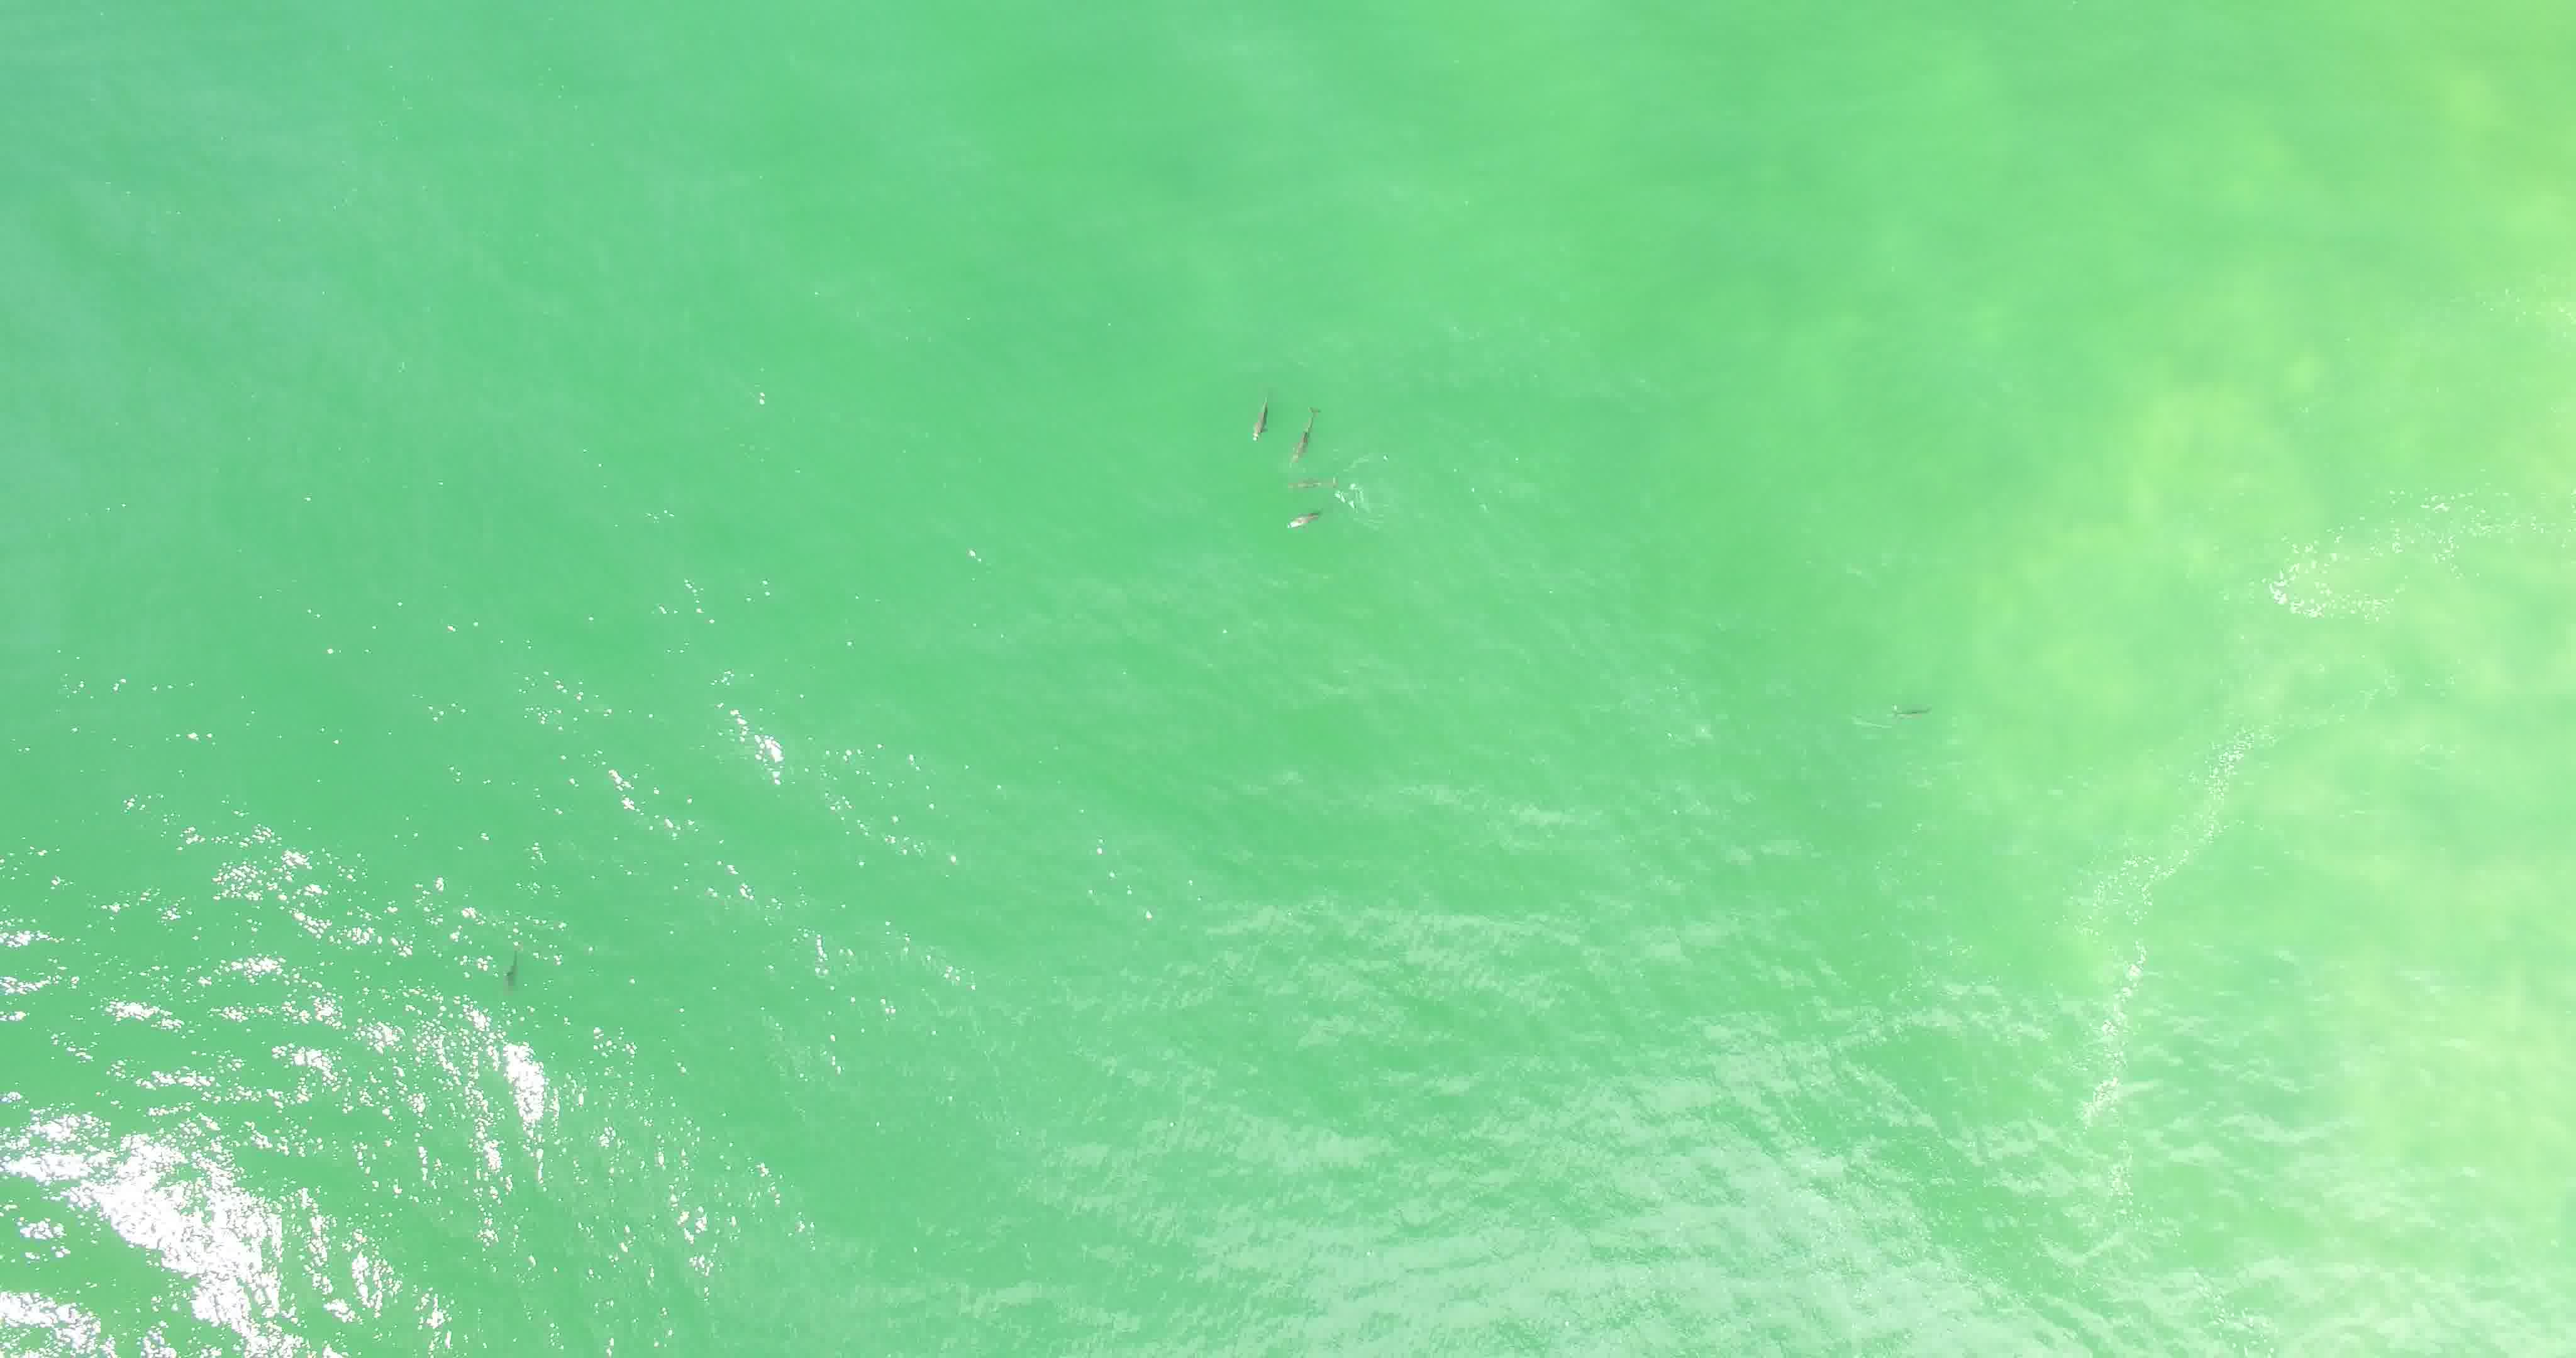dolphin: (1845, 678, 1949, 741), (1274, 445, 1351, 501), (1278, 380, 1320, 469), (1230, 378, 1285, 445), (1283, 492, 1341, 532)
